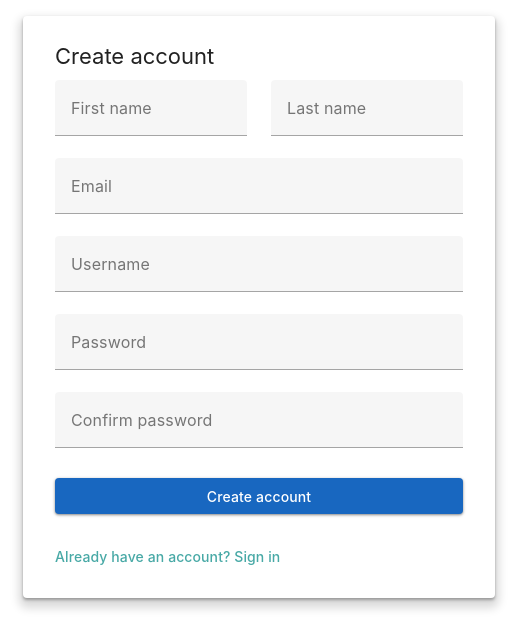
Test: Feature 1 — Register view › US-1.1 — Registration › User submits registration with missing username
Type "Jane" into the field labelled "First name". click: {"x": 151, "y": 108}
box: x1=55 y1=80 x2=247 y2=136
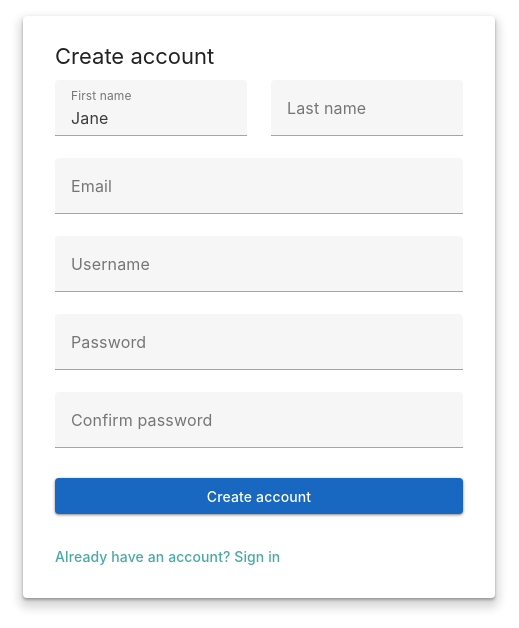
Type "Doe" into the field labelled "Last name". click: {"x": 367, "y": 108}
box: x1=271 y1=80 x2=463 y2=136
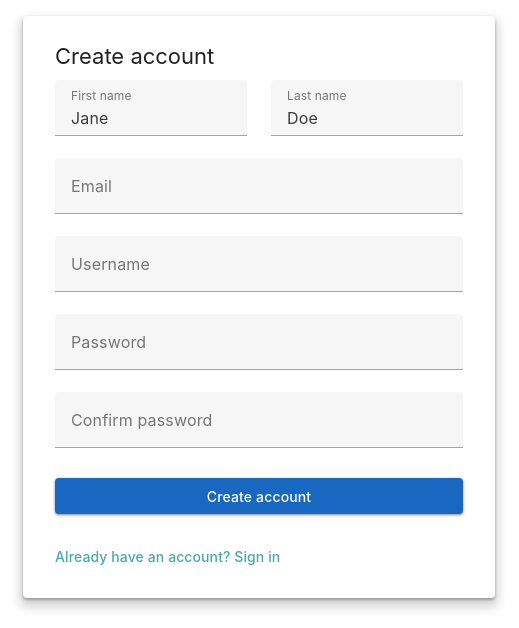
Type "jane@example.com" into the field labelled "Email". click: {"x": 259, "y": 186}
box: x1=55 y1=158 x2=463 y2=214
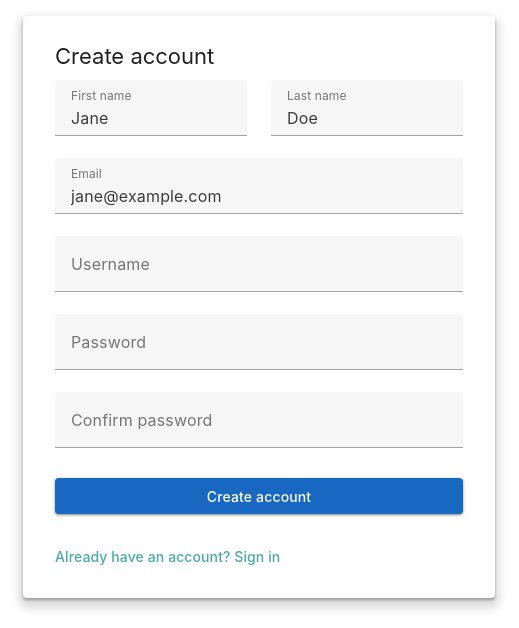
Type "password123" into the password field named "password". click: {"x": 259, "y": 342}
box: x1=55 y1=314 x2=463 y2=370
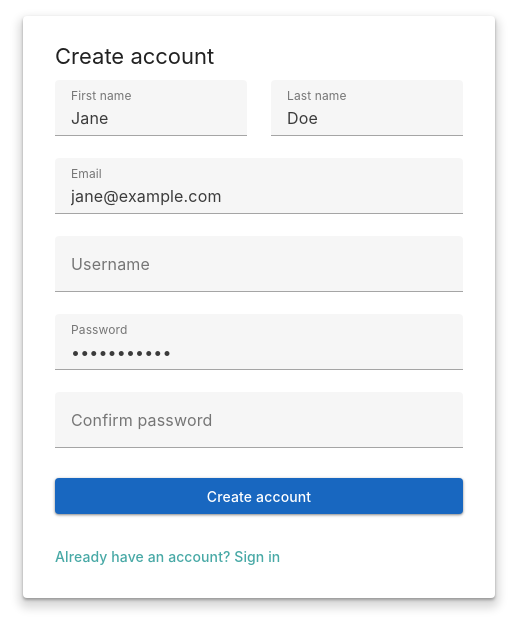
Type "password123" into the password field labelled "Confirm password". click: {"x": 259, "y": 420}
box: x1=55 y1=392 x2=463 y2=448
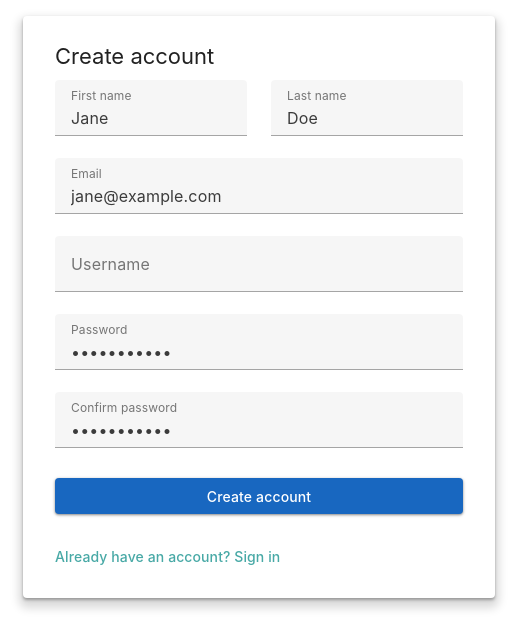
Submit the form, box x1=55 y1=80 x2=463 y2=514
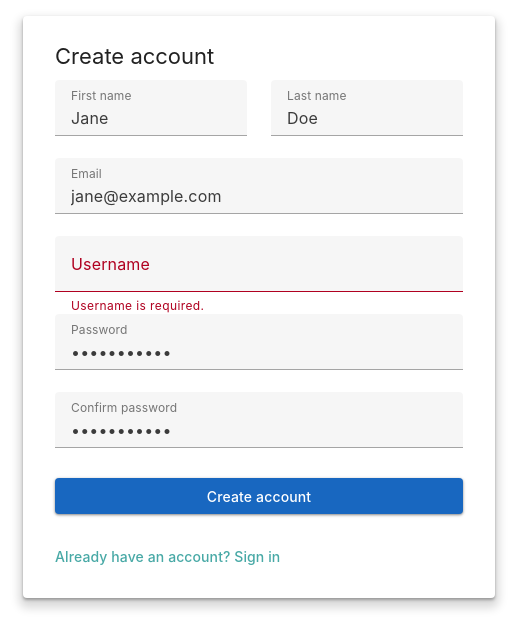
Check: the text "Username is required." is shown, box x1=71 y1=298 x2=204 y2=313
